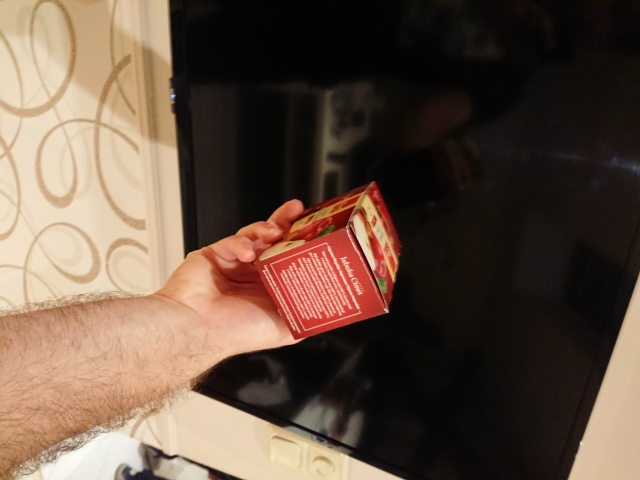Franck Apple Cinnamon Tea 60g: (249, 178, 404, 343)
